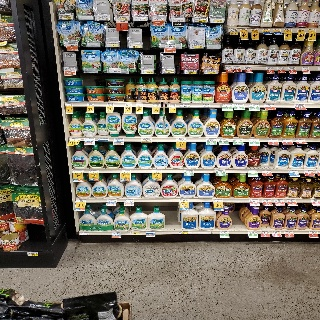All PRICE TAGS: (96, 15, 111, 20), (106, 42, 120, 47), (115, 16, 128, 21), (164, 43, 177, 48), (129, 43, 141, 48), (210, 18, 224, 22), (108, 68, 121, 72), (172, 17, 185, 21), (163, 69, 175, 73), (58, 14, 70, 18), (133, 16, 145, 20), (151, 16, 163, 20), (65, 41, 77, 45), (73, 169, 84, 173), (141, 138, 152, 142), (113, 137, 124, 141), (97, 137, 108, 141), (247, 169, 258, 173), (222, 103, 233, 107), (249, 138, 260, 142), (64, 67, 75, 71), (112, 231, 122, 235), (80, 231, 90, 235), (179, 198, 189, 202), (107, 198, 117, 202), (76, 198, 86, 202), (152, 169, 162, 173), (121, 169, 131, 173), (89, 169, 99, 173), (176, 138, 186, 142), (180, 104, 190, 108), (219, 230, 229, 234), (295, 104, 305, 108), (193, 44, 203, 48), (193, 18, 206, 21), (146, 231, 155, 235), (69, 137, 81, 140), (185, 70, 197, 73), (142, 70, 154, 73), (265, 66, 274, 70), (214, 199, 223, 203), (216, 169, 225, 173), (84, 137, 95, 140), (205, 70, 216, 73), (249, 104, 260, 107), (264, 104, 275, 107), (124, 103, 132, 107), (308, 29, 316, 33), (251, 28, 259, 32), (244, 66, 252, 70), (184, 169, 194, 172), (206, 138, 216, 141), (289, 170, 299, 173), (261, 170, 271, 173), (249, 199, 259, 202), (248, 231, 258, 234), (234, 104, 244, 107), (282, 139, 292, 142), (268, 139, 278, 142), (233, 139, 243, 142), (219, 138, 229, 141), (136, 103, 143, 107), (107, 103, 114, 107), (87, 103, 94, 107), (66, 102, 73, 106), (169, 104, 176, 108), (152, 103, 159, 107), (263, 28, 270, 32), (230, 28, 237, 32), (277, 66, 284, 70), (131, 231, 140, 234), (125, 199, 134, 202), (304, 170, 313, 173), (311, 199, 320, 202), (287, 199, 296, 202), (275, 199, 284, 202), (262, 199, 271, 202), (284, 231, 293, 234), (272, 231, 281, 234), (261, 231, 270, 234), (295, 139, 304, 142), (180, 231, 188, 234), (202, 104, 210, 107), (284, 29, 292, 32), (273, 29, 281, 32), (309, 231, 317, 234), (298, 29, 305, 32), (240, 28, 247, 31), (302, 67, 309, 70), (289, 67, 296, 70), (234, 66, 241, 69), (226, 66, 232, 69), (317, 170, 319, 173)
